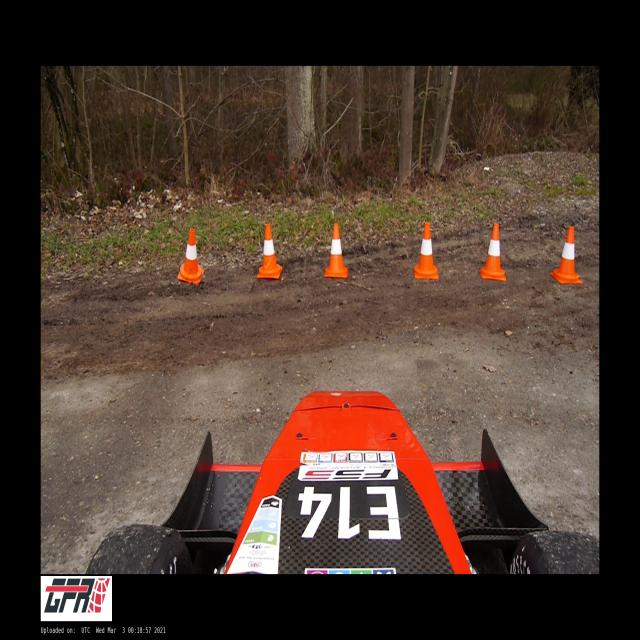orange_cone: (550, 228, 582, 283), (480, 224, 506, 280), (178, 229, 204, 284), (258, 224, 282, 278), (324, 224, 348, 277), (415, 224, 437, 277)
